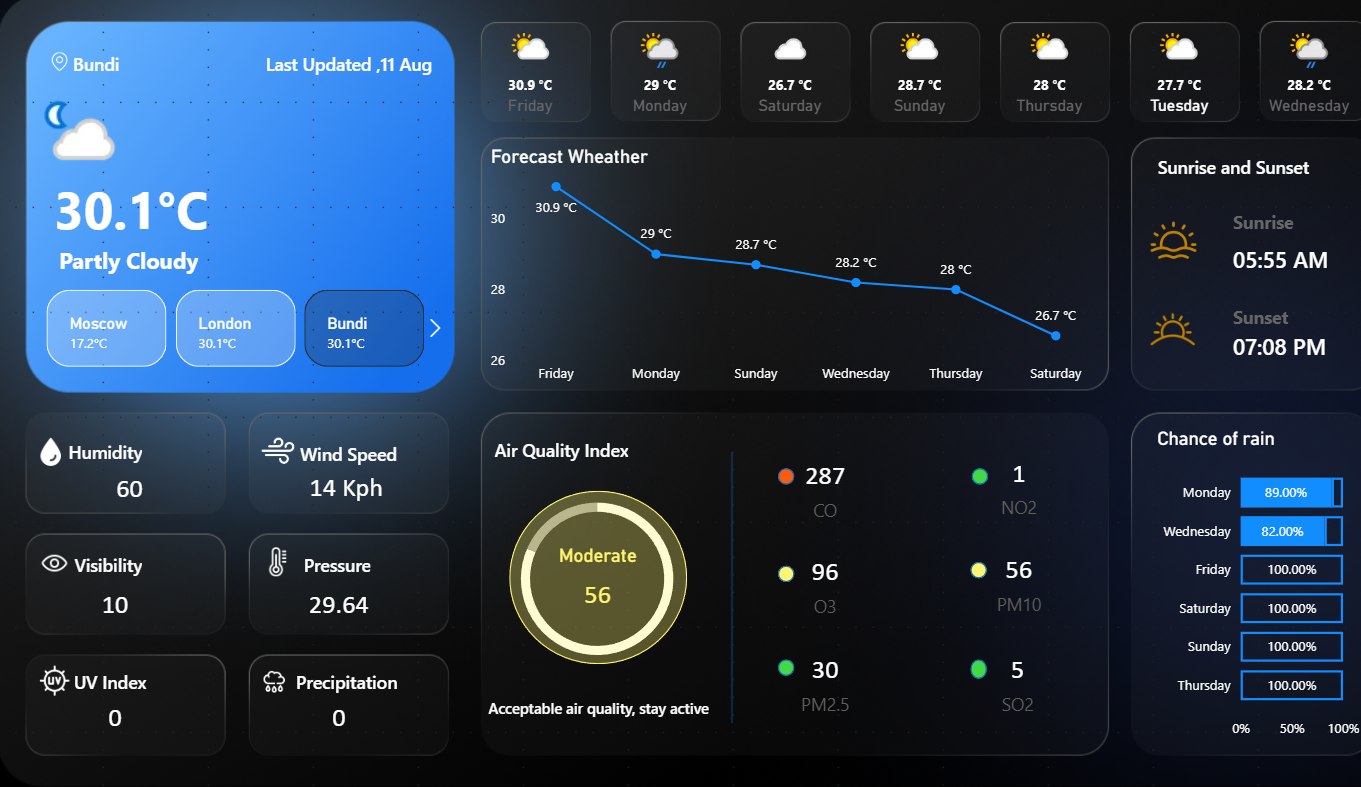

The page's visual inventory and layout, read from the dashboard file:
{"tool":"powerbi","page":{"name":"Page 1","canvas":[1280,720],"ordinal":0},"visuals":[{"type":"advancedSlicerVisual","fields":{"Values":["Locations.location.name"]},"box":[18.9,261.4,393.5,80.9],"z":0},{"type":"shape","box":[51.2,133.7,203.5,115.1],"z":1000},{"type":"shape","box":[55.8,204.7,170.9,68.6],"z":2000},{"type":"shape","box":[68.6,25.6,169.8,67.4],"z":3000},{"type":"shape","box":[176.7,25.6,217.4,67.4],"z":4000},{"type":"image","box":[28.5,46,54.5,26.5],"z":5000},{"type":"cardVisual","fields":{"Data":["Min(current.current.condition.icon)"]},"box":[12.8,73.3,111.6,114],"z":6000},{"type":"shape","box":[55.8,379.1,75.6,67.4],"z":7000},{"type":"shape","box":[258.1,380.2,104.7,67.4],"z":8000},{"type":"shape","box":[64,481.4,67.4,67.4],"z":9000},{"type":"shape","box":[274.4,481.4,65.1,67.4],"z":10000},{"type":"shape","box":[186,588.4,176.7,67.4],"z":11000},{"type":"shape","box":[51.2,588.4,83.7,67.4],"z":12000},{"type":"image","box":[29.1,394.2,37.2,38.4],"z":13000},{"type":"image","box":[32.6,495.4,37.2,38.4],"z":14000},{"type":"image","box":[30.2,602.3,41.9,38.4],"z":15000},{"type":"image","box":[233.7,391.9,40.7,40.7],"z":16000},{"type":"image","box":[223.3,495.4,64,36],"z":17000},{"type":"image","box":[216.3,605.8,69.8,33.7],"z":18000},{"type":"card","fields":{"Values":["Sum(current.current.humidity)"]},"box":[72.1,427.9,96.5,37.2],"z":19000},{"type":"card","fields":{"Values":["_Mesures.Wind_Speed"]},"box":[274.4,410.5,86,70.9],"z":20000},{"type":"card","fields":{"Values":["Sum(current.current.pressure_in)"]},"box":[267.4,517.4,86,70.9],"z":21000},{"type":"card","fields":{"Values":["Sum(current.current.vis_km)"]},"box":[64,517.4,86,70.9],"z":22000},{"type":"card","fields":{"Values":["Sum(current.current.precip_in)"]},"box":[267.4,619.8,86,70.9],"z":23000},{"type":"card","fields":{"Values":["Sum(current.current.uv)"]},"box":[64,619.8,86,70.9],"z":24000},{"type":"advancedSlicerVisual","fields":{"Values":["forecast_day.Day_Name"]},"box":[424,20.6,828.8,104.3],"z":25000},{"type":"lineChart","title":"Forecast Wheather","fields":{"Category":["forecast_day.Day_Name"],"Y":["Sum(forecast_day.forecast.forecastday.day.avgtemp_c)"]},"box":[443.3,135.6,560,225.6],"z":26000},{"type":"shape","box":[1122.4,181.2,120.4,114.6],"z":27000},{"type":"shape","box":[1034.7,120.4,156.7,66.6],"z":28000},{"type":"shape","box":[1122.4,273.6,105.2,86.5],"z":29000},{"type":"shape","box":[1122.4,176.5,79.5,57.3],"z":30000},{"type":"shape","box":[1122.4,247.9,105.2,85.3],"z":31000},{"type":"image","box":[1023,270.1,91.2,63.1],"z":32000},{"type":"image","box":[1024.2,195.3,88.9,51.4],"z":33000},{"type":"hundredPercentStackedBarChart","title":"Chance of rain","fields":{"Y":["Sum(forecast_day.forecast.forecastday.day.daily_chance_of_rain)","current.Left_value_Rain"],"Category":["forecast_day.Day_Name"]},"box":[1048.5,390.8,194.1,292.4],"z":34000},{"type":"shape","box":[424.5,377.3,148.2,67.4],"z":35000},{"type":"card","fields":{"Values":["Sum(current.current.air_quality.no2)"]},"box":[885.4,408.3,86.3,71.4],"z":36000},{"type":"card","fields":{"Values":["Sum(current.current.air_quality.co)"]},"box":[708.9,409.7,86.3,71.4],"z":37000},{"type":"card","fields":{"Values":["Sum(current.current.air_quality.o3)"]},"box":[708.9,497.3,86.3,71.4],"z":38000},{"type":"card","fields":{"Values":["Sum(current.current.air_quality.pm10)"]},"box":[885.4,495.9,86.3,71.4],"z":39000},{"type":"card","fields":{"Values":["Sum(current.current.air_quality.pm2_5)"]},"box":[708.9,586.2,86.3,71.4],"z":40000},{"type":"card","fields":{"Values":["Sum(current.current.air_quality.so2)"]},"box":[884.1,586.2,86.3,71.4],"z":41000},{"type":"shape","box":[884.1,513.5,14.8,14.8],"z":42000},{"type":"shape","box":[708.9,428.6,14.8,14.8],"z":43000},{"type":"shape","box":[708.9,517.5,14.8,14.8],"z":44000},{"type":"shape","box":[708.9,602.4,14.8,14.8],"z":45000},{"type":"shape","box":[885.4,428.6,14.8,14.8],"z":46000},{"type":"shape","box":[884.1,602.4,14.8,17.5],"z":47000},{"type":"card","fields":{"Values":["Sum(current.current.air_quality.pm10)"]},"box":[502.7,497.3,86.3,71.4],"z":48000},{"type":"donutChart","fields":{"Y":["_measures.Left_value_PM10","Sum(current.current.air_quality.pm10)"]},"box":[436.6,438,217,183.3],"z":49000},{"type":"shape","box":[464.9,448.8,161.7,157.7],"z":50000},{"type":"shape","box":[626.7,413.7,82.2,246.6],"z":51000},{"type":"shape","box":[438.4,611.6,216.3,62.8],"z":52000}]}

Visuals, with their boxes in screenshot pixels (x1, y1, x2, y2), scaled from the page's 1280x720 canvas onto the 1361x787 screenshot:
advancedSlicerVisual - Locations.location.name: <bbox>20, 286, 438, 374</bbox>
shape: <bbox>54, 146, 271, 272</bbox>
shape: <bbox>59, 224, 241, 299</bbox>
shape: <bbox>73, 28, 253, 102</bbox>
shape: <bbox>188, 28, 419, 102</bbox>
image: <bbox>30, 50, 88, 79</bbox>
cardVisual - Min(current.current.condition.icon): <bbox>14, 80, 132, 205</bbox>
shape: <bbox>59, 414, 140, 488</bbox>
shape: <bbox>274, 416, 386, 489</bbox>
shape: <bbox>68, 526, 140, 600</bbox>
shape: <bbox>292, 526, 361, 600</bbox>
shape: <bbox>198, 643, 386, 717</bbox>
shape: <bbox>54, 643, 143, 717</bbox>
image: <bbox>31, 431, 70, 473</bbox>
image: <bbox>35, 541, 74, 583</bbox>
image: <bbox>32, 658, 77, 700</bbox>
image: <bbox>248, 428, 292, 473</bbox>
image: <bbox>237, 541, 305, 581</bbox>
image: <bbox>230, 662, 304, 699</bbox>
card - Sum(current.current.humidity): <bbox>77, 468, 179, 508</bbox>
card - _Mesures.Wind_Speed: <bbox>292, 449, 383, 526</bbox>
card - Sum(current.current.pressure_in): <bbox>284, 566, 376, 643</bbox>
card - Sum(current.current.vis_km): <bbox>68, 566, 159, 643</bbox>
card - Sum(current.current.precip_in): <bbox>284, 677, 376, 755</bbox>
card - Sum(current.current.uv): <bbox>68, 677, 159, 755</bbox>
advancedSlicerVisual - forecast_day.Day_Name: <bbox>451, 23, 1332, 137</bbox>
"Forecast Wheather" lineChart: <bbox>471, 148, 1067, 395</bbox>
shape: <bbox>1193, 198, 1321, 323</bbox>
shape: <bbox>1100, 132, 1267, 204</bbox>
shape: <bbox>1193, 299, 1305, 394</bbox>
shape: <bbox>1193, 193, 1278, 256</bbox>
shape: <bbox>1193, 271, 1305, 364</bbox>
image: <bbox>1088, 295, 1185, 364</bbox>
image: <bbox>1089, 213, 1184, 270</bbox>
"Chance of rain" hundredPercentStackedBarChart: <bbox>1115, 427, 1321, 747</bbox>
shape: <bbox>451, 412, 609, 486</bbox>
card - Sum(current.current.air_quality.no2): <bbox>941, 446, 1033, 524</bbox>
card - Sum(current.current.air_quality.co): <bbox>754, 448, 846, 526</bbox>
card - Sum(current.current.air_quality.o3): <bbox>754, 544, 846, 622</bbox>
card - Sum(current.current.air_quality.pm10): <bbox>941, 542, 1033, 620</bbox>
card - Sum(current.current.air_quality.pm2_5): <bbox>754, 641, 846, 719</bbox>
card - Sum(current.current.air_quality.so2): <bbox>940, 641, 1032, 719</bbox>
shape: <bbox>940, 561, 956, 577</bbox>
shape: <bbox>754, 468, 769, 485</bbox>
shape: <bbox>754, 566, 769, 582</bbox>
shape: <bbox>754, 658, 769, 675</bbox>
shape: <bbox>941, 468, 957, 485</bbox>
shape: <bbox>940, 658, 956, 678</bbox>
card - Sum(current.current.air_quality.pm10): <bbox>535, 544, 626, 622</bbox>
donutChart - _measures.Left_value_PM10 x Sum(current.current.air_quality.pm10): <bbox>464, 479, 695, 679</bbox>
shape: <bbox>494, 491, 666, 663</bbox>
shape: <bbox>666, 452, 754, 722</bbox>
shape: <bbox>466, 669, 696, 737</bbox>
